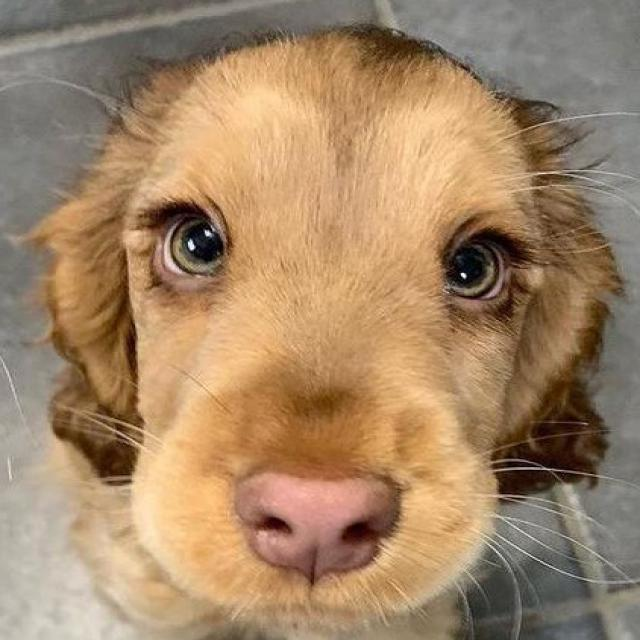eye: (144, 201, 238, 286), (433, 225, 521, 311)
